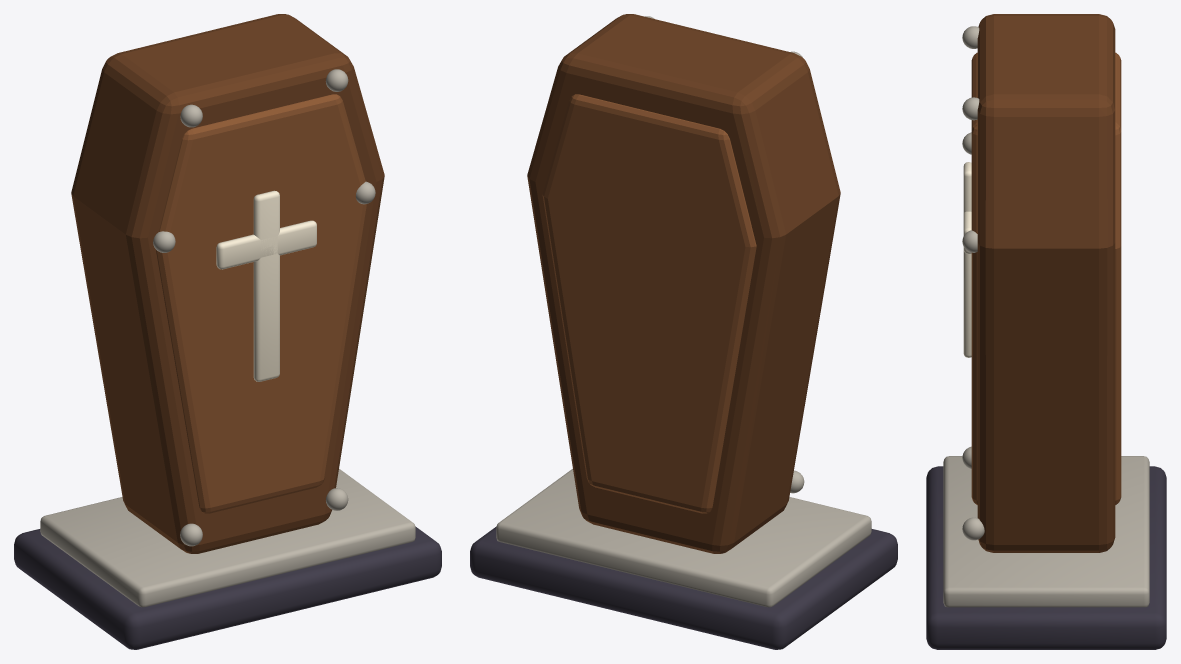
Rendered from CoffinWood.fbx.
3 renders of one model, left to right at view 1: azimuth 30°, elevation 25°; view 2: azimuth 150°, elevation 25°; view 3: azimuth 270°, elevation 25°, orthographic.
Parts seen in each view (by area): view 1: CoffinWood; view 2: CoffinWood; view 3: CoffinWood.
Part boxes in pixels (left/top/right/bottom): CoffinWood: left=14, top=14, right=441, bottom=649; CoffinWood: left=470, top=14, right=897, bottom=649; CoffinWood: left=926, top=14, right=1166, bottom=649.
Size of the model in its own units: 6.4 by 10.05 by 4.2.
1 material, 1 textured.
